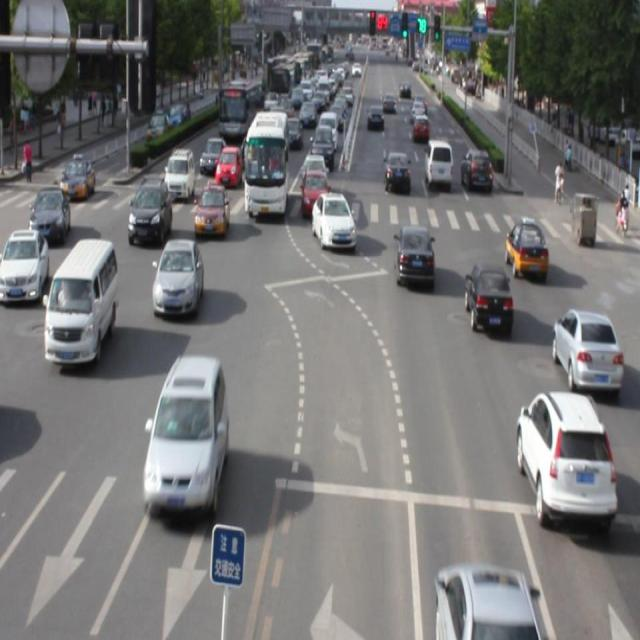car: (144, 352, 229, 511), (518, 389, 613, 527), (434, 557, 540, 640), (552, 308, 621, 391), (152, 238, 203, 316), (465, 259, 512, 332), (127, 174, 171, 246), (311, 196, 355, 253), (394, 222, 434, 284), (505, 216, 546, 273), (193, 182, 228, 238)
truck: (44, 238, 117, 364)
